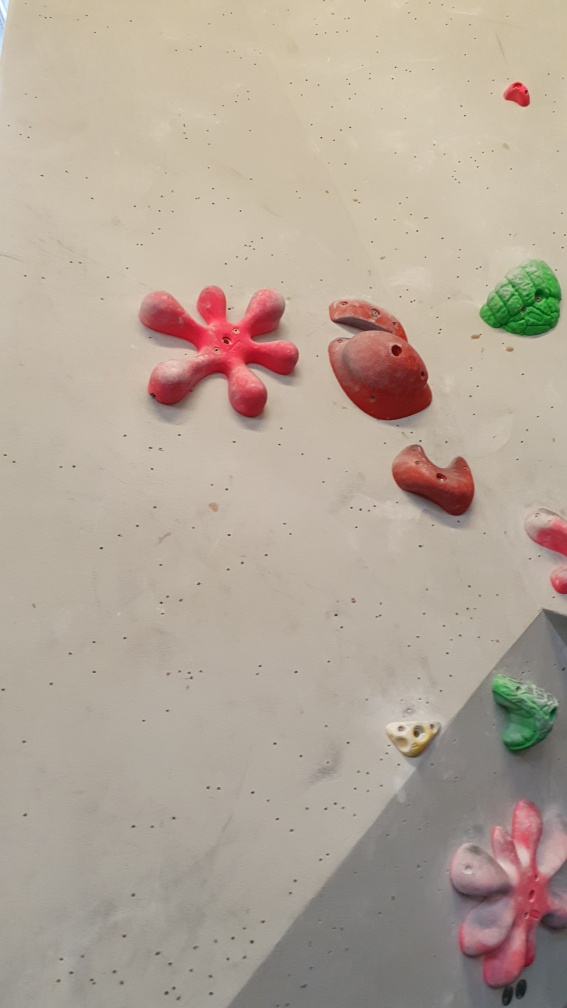Octopus Pinch: (136, 284, 302, 420), (448, 799, 564, 990)
